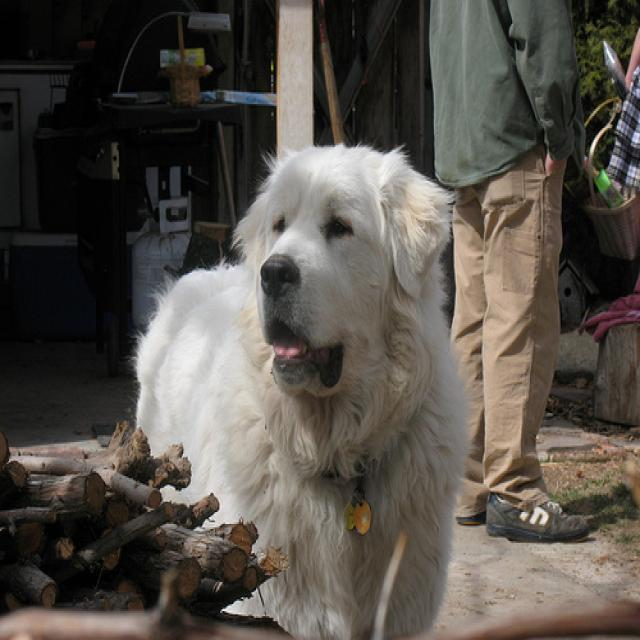dog-great_pyrenees: (136, 137, 474, 637)
